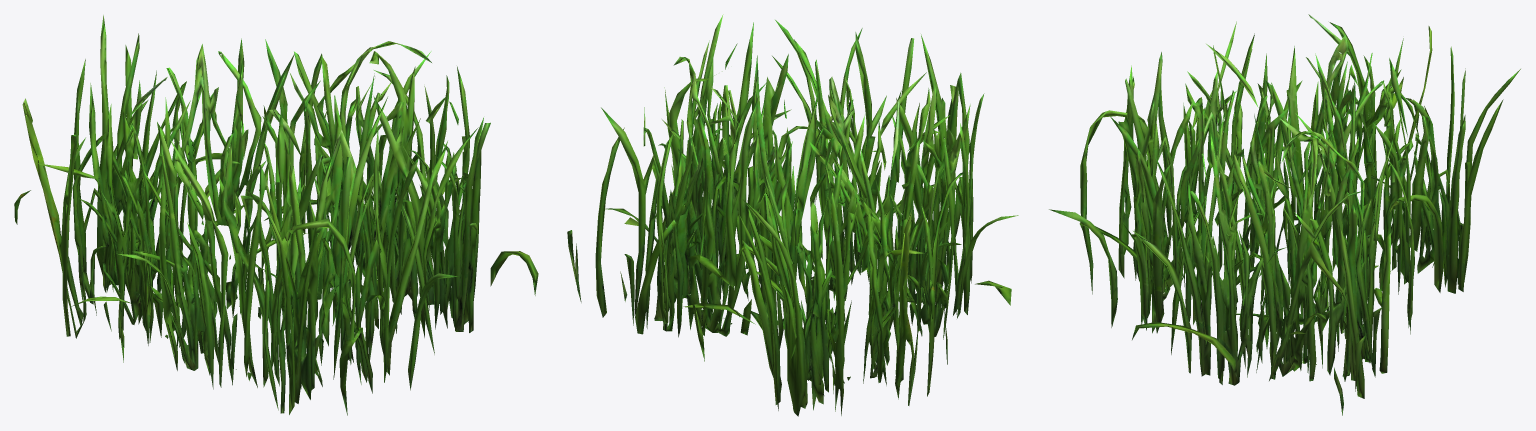
The model's file is seagrass.glb.
3 views of the same model, side by side, from view 1: azimuth 30°, elevation 25°; view 2: azimuth 150°, elevation 25°; view 3: azimuth 270°, elevation 25° (orthographic). The views are drawn at different scales.
Parts seen in each view (by area): view 1: Object_4; view 2: Object_4; view 3: Object_4.
Boxes of the visible parts, <box> form: Object_4: <box>14,15,538,415</box>; Object_4: <box>567,14,1018,416</box>; Object_4: <box>1049,14,1520,415</box>.
Bounding box in the file's own units: 1.93 × 1.22 × 1.96.
Materials: 1 (1 with a texture image).
